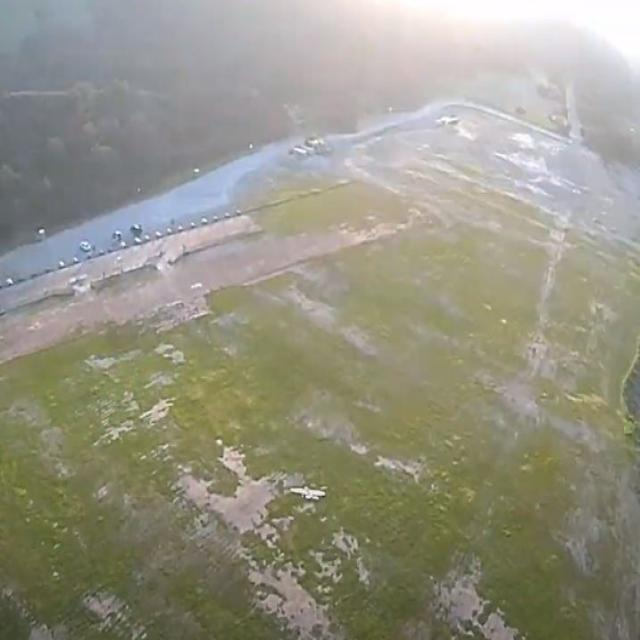iha: (289, 484, 326, 502)
